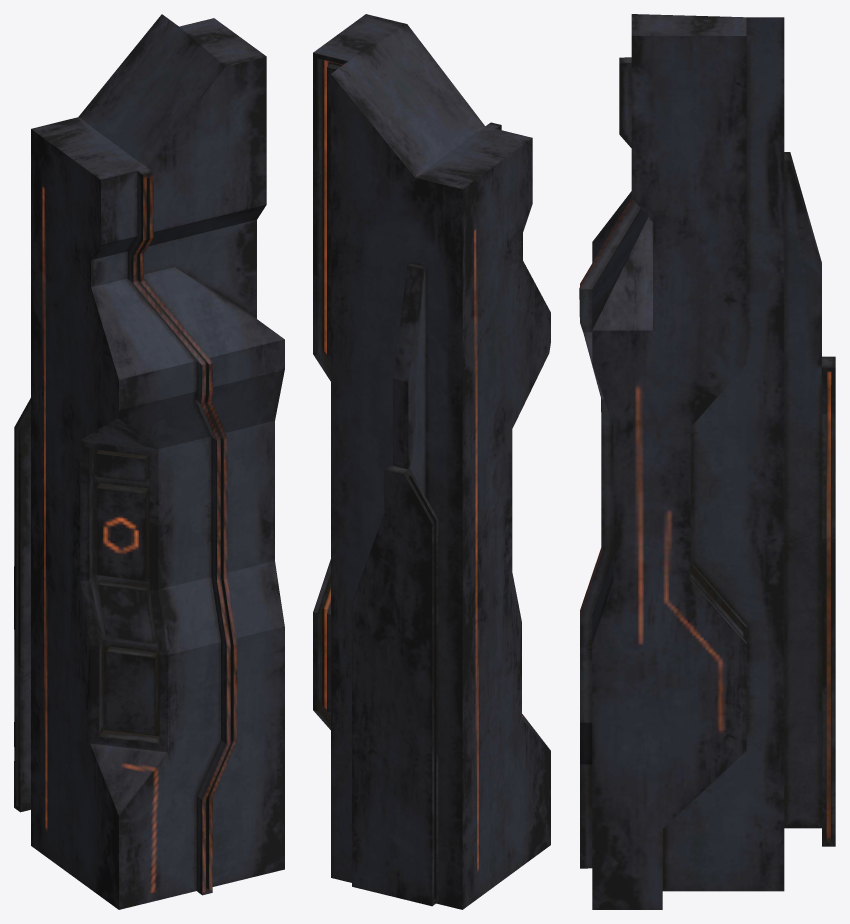
3 views of the same model, side by side, from view 1: azimuth 30°, elevation 25°; view 2: azimuth 150°, elevation 25°; view 3: azimuth 270°, elevation 25° (orthographic). The views are drawn at different scales.
Visible parts, largest first — view 1: SB_05; view 2: SB_05; view 3: SB_05.
Boxes of the visible parts, x1=… form: SB_05: x1=14, y1=14, x2=284, y2=909; SB_05: x1=313, y1=14, x2=550, y2=909; SB_05: x1=579, y1=14, x2=835, y2=909.
Size of the model in its own units: 1519 by 6996 by 1860.
1 material, 1 textured.
